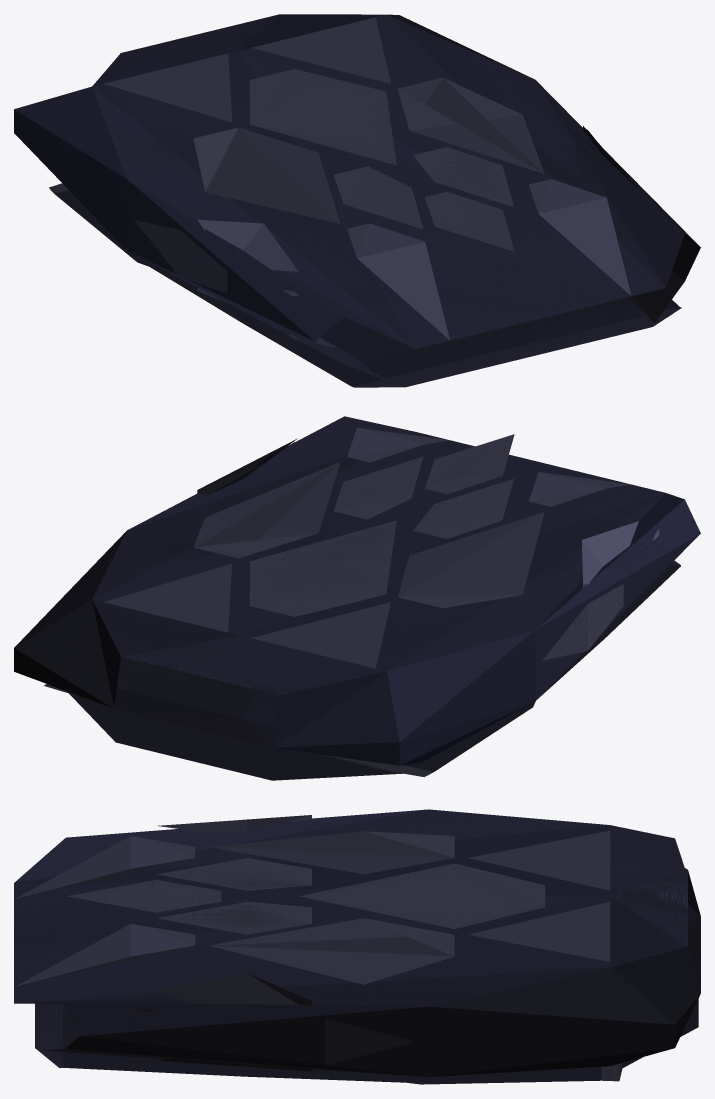
File: blue-dhide-body.obj
3 renders of one model, top to bottom at view 1: azimuth 30°, elevation 25°; view 2: azimuth 150°, elevation 25°; view 3: azimuth 270°, elevation 25°, orthographic.
Visible parts, largest first — view 1: Item Blue d'hide body 2026-09-24_17-11-01; view 2: Item Blue d'hide body 2026-09-24_17-11-01; view 3: Item Blue d'hide body 2026-09-24_17-11-01.
Boxes of the visible parts, x1=… form: Item Blue d'hide body 2026-09-24_17-11-01: x1=14, y1=14, x2=700, y2=387; Item Blue d'hide body 2026-09-24_17-11-01: x1=14, y1=416, x2=700, y2=780; Item Blue d'hide body 2026-09-24_17-11-01: x1=14, y1=809, x2=700, y2=1084.
Size of the model in its own units: 36 by 8 by 53.
